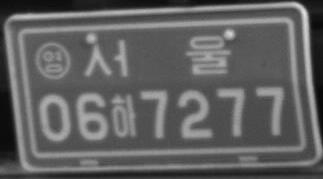0: (38, 92, 71, 143)
2: (176, 88, 212, 139)
6: (75, 91, 108, 142)
7: (254, 85, 285, 136), (216, 86, 246, 137), (139, 88, 169, 138)
서울_D: (83, 34, 231, 77)
영: (35, 41, 71, 80)
하: (111, 93, 136, 138)
